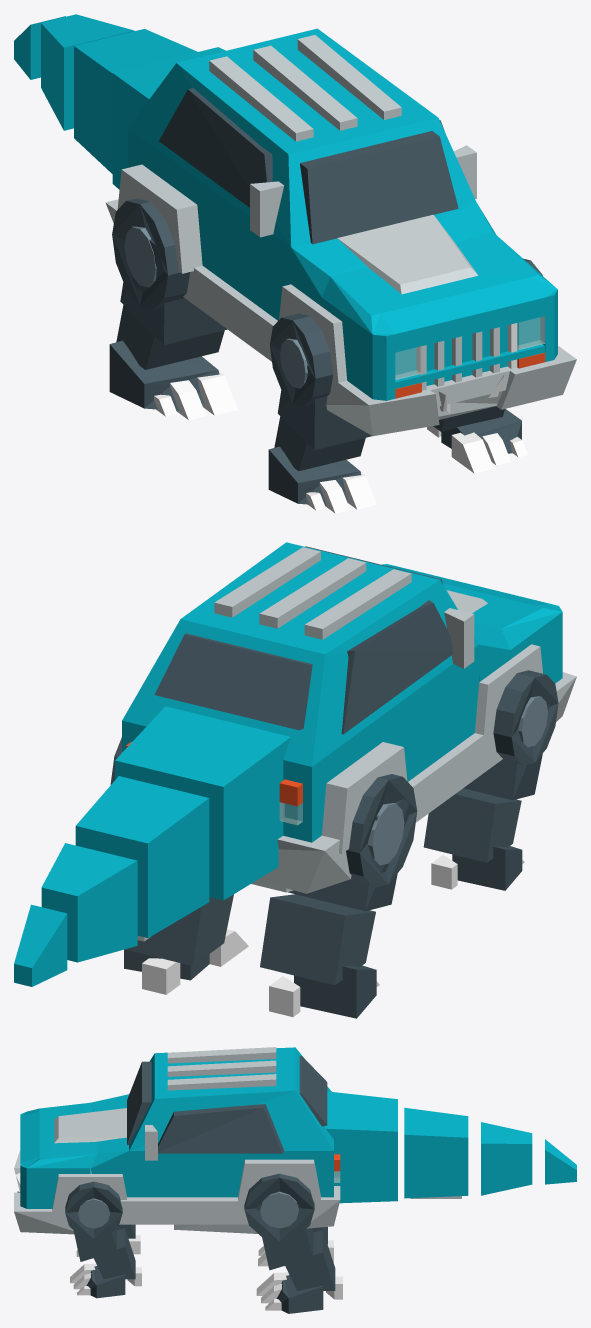
The model's file is car_walker_model.obj.
3 renders of one model, top to bottom at view 1: azimuth 30°, elevation 25°; view 2: azimuth 150°, elevation 25°; view 3: azimuth 270°, elevation 25°, orthographic. The views are drawn at different scales.
Parts seen in each view (by area): view 1: group806047933, group247322691, group1768201262, group773448419, group302867006, group1395231522, group1766585733, group2107833641, group1030103782, group49068896, group858995499, group457558533 (+26 smaller); view 2: group806047933, group565524974, group773448419, group231661385, group257624286, group15466328, group302867006, group1030103782, group1525382234, group49068896, group1768201262, group2107833641 (+17 smaller); view 3: group806047933, group565524974, group773448419, group509881894, group1768201262, group664529727, group1713040283, group257624286, group980840672, group1831415227, group1766585733, group2013856534 (+19 smaller).
Boxes of the visible parts, <box> form: group806047933: <box>128,28,476,320</box>; group247322691: <box>300,131,458,244</box>; group1768201262: <box>321,232,556,398</box>; group773448419: <box>74,29,197,173</box>; group302867006: <box>159,88,272,207</box>; group1395231522: <box>380,277,545,352</box>; group1766585733: <box>337,214,478,294</box>; group2107833641: <box>109,340,237,419</box>; group1030103782: <box>112,198,190,309</box>; group49068896: <box>270,313,333,406</box>; group858995499: <box>268,446,376,513</box>; group457558533: <box>291,202,496,306</box>; group806047933: <box>122,542,480,842</box>; group565524974: <box>115,706,290,900</box>; group773448419: <box>75,776,209,941</box>; group231661385: <box>154,633,312,730</box>; group257624286: <box>41,843,137,962</box>; group15466328: <box>260,894,375,985</box>; group302867006: <box>341,600,452,734</box>; group1030103782: <box>346,774,417,887</box>; group1525382234: <box>423,788,521,862</box>; group49068896: <box>493,670,558,765</box>; group1768201262: <box>443,583,562,683</box>; group2107833641: <box>269,965,379,1018</box>; group806047933: <box>125,1047,333,1197</box>; group565524974: <box>325,1091,397,1203</box>; group773448419: <box>404,1107,468,1198</box>; group509881894: <box>158,1104,284,1153</box>; group1768201262: <box>26,1102,96,1208</box>; group664529727: <box>244,1173,314,1241</box>; group1713040283: <box>119,1197,248,1224</box>; group257624286: <box>481,1122,532,1195</box>; group980840672: <box>65,1181,122,1238</box>; group1831415227: <box>256,1272,342,1313</box>; group1766585733: <box>54,1108,126,1143</box>; group2013856534: <box>238,1159,320,1201</box>.
Bounding box in the file's own units: 0.2756 × 0.3706 × 0.88.
